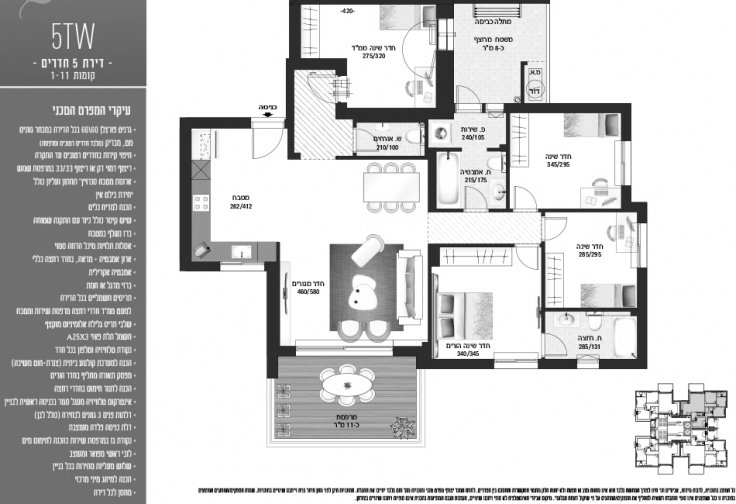door: (291, 341, 399, 360), (249, 129, 286, 167), (305, 70, 342, 108), (446, 75, 483, 113), (459, 178, 496, 216), (504, 175, 541, 213), (532, 208, 569, 246), (511, 237, 548, 275), (536, 326, 573, 364), (356, 127, 386, 152)
room: (426, 242, 545, 369), (505, 102, 630, 213), (540, 207, 646, 312), (541, 308, 646, 369)
wall: (181, 117, 192, 271), (266, 260, 279, 378), (335, 107, 454, 118), (503, 103, 632, 113), (638, 267, 646, 366), (182, 118, 252, 128)
window: (616, 137, 637, 190), (215, 255, 270, 273), (635, 217, 650, 276)
